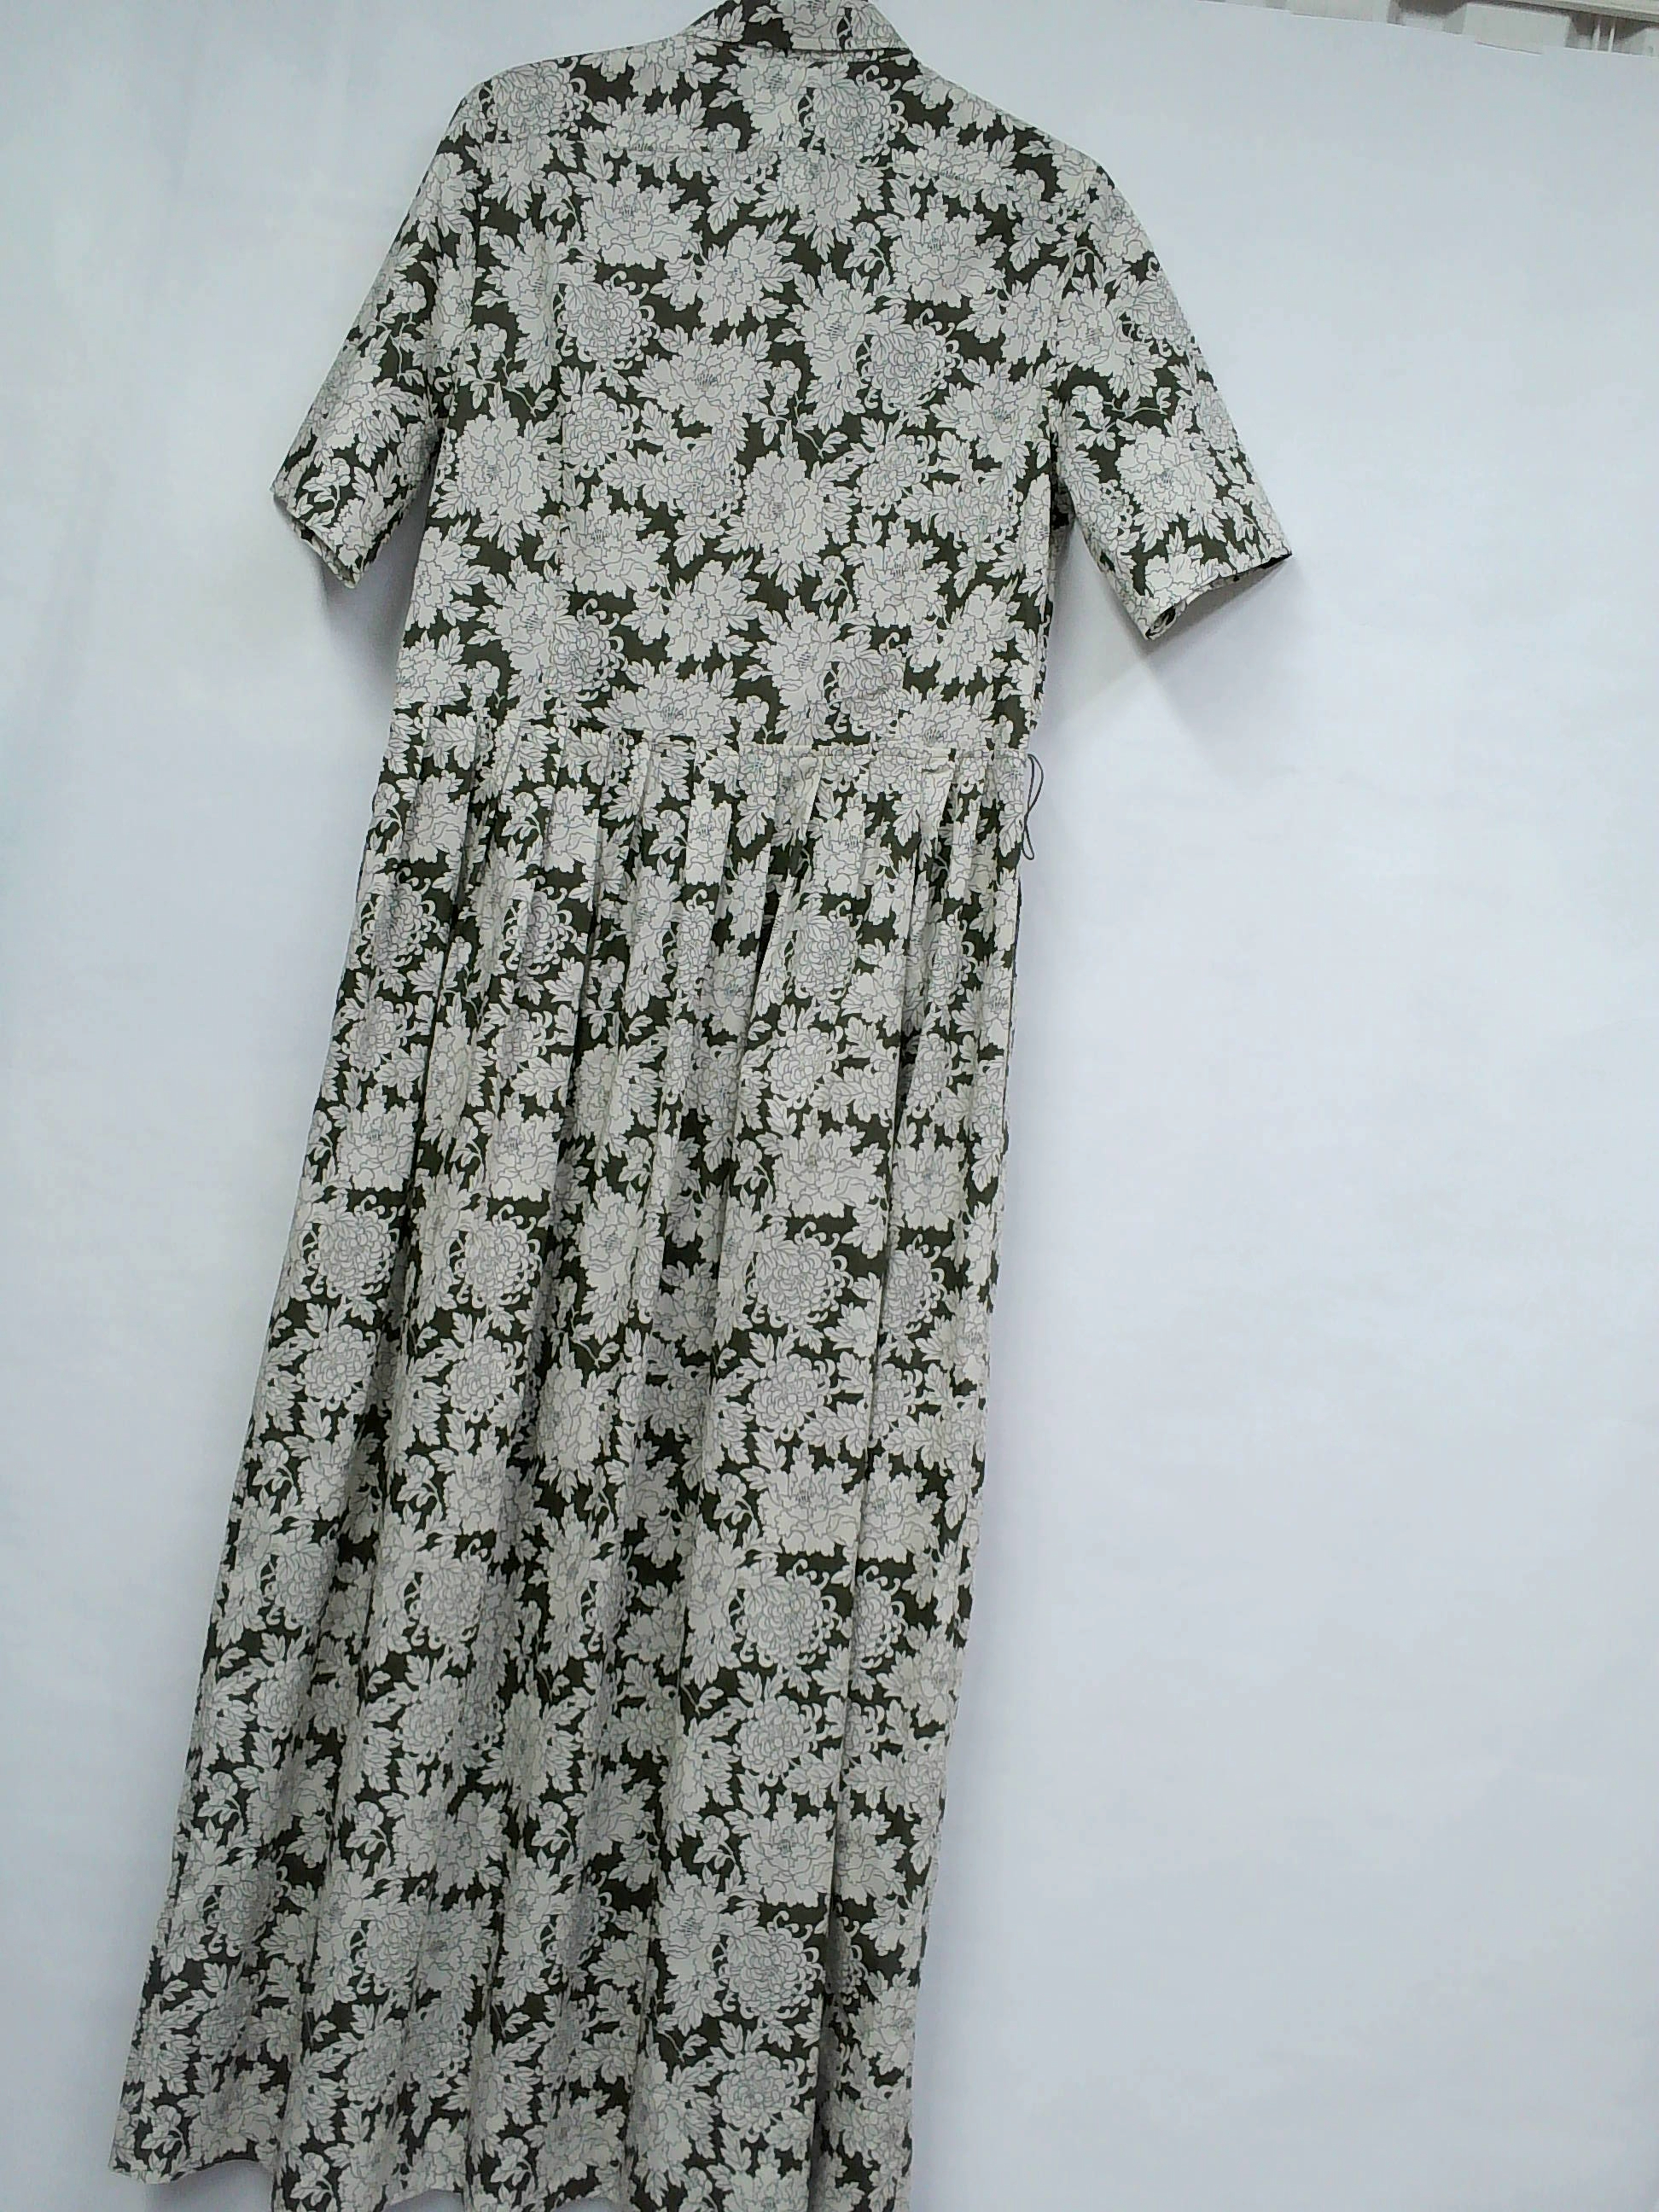structural: (835, 716, 967, 801)
